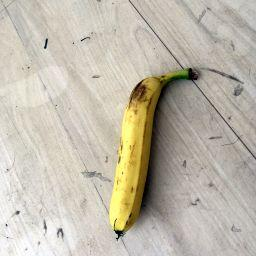Banana Ripe: (109, 65, 198, 243)
